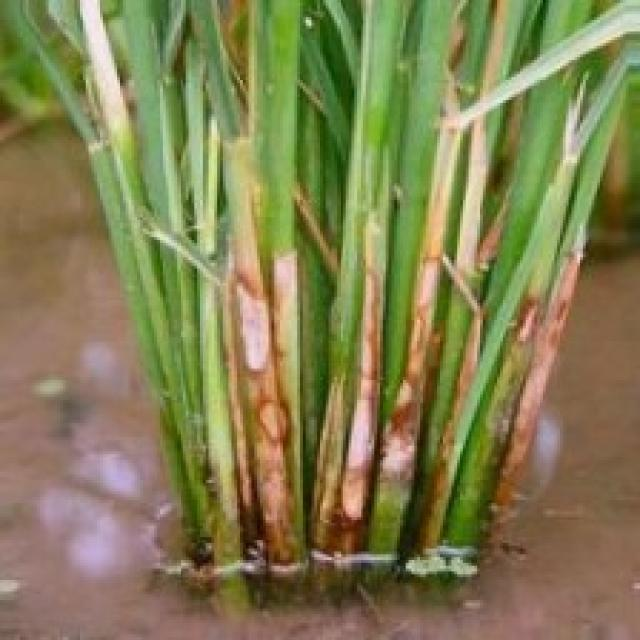Bacterial_Blight: (498, 247, 586, 499), (373, 250, 448, 490), (333, 251, 385, 527), (228, 266, 275, 378), (250, 387, 302, 452), (510, 288, 542, 353)
